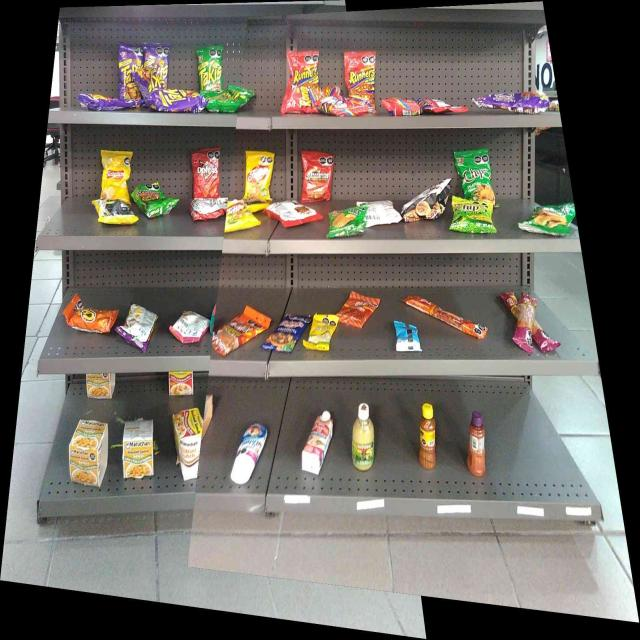bitzAlmendras: (394, 318, 421, 354)
bitzEnchilado90: (432, 303, 488, 341), (340, 288, 374, 327)
bitzHabanero: (518, 288, 536, 355)
bokadosCacahuates: (272, 319, 300, 353)
botaneraChilito: (419, 401, 437, 470)
cheetosOriginal: (63, 295, 114, 333)
chipsFuego: (475, 92, 549, 113)
chipsJalapeno: (455, 147, 494, 198), (526, 200, 575, 238)
chipsPapatinas: (454, 200, 494, 232)
delPrimoSalsa: (352, 400, 376, 471)
doritosNacho: (191, 151, 219, 197)
fritosLimon: (246, 149, 274, 201), (228, 203, 246, 230)
leoMix: (216, 319, 256, 348)
maruchanPollo: (70, 422, 106, 488), (124, 422, 153, 478)
maruchanRes: (173, 410, 201, 474)
nestleCarnation: (305, 413, 330, 474)
nestleLechera: (236, 424, 261, 482)
popKarameladas: (407, 185, 447, 220)
productoAtras: (120, 307, 153, 347), (176, 310, 205, 344), (98, 202, 136, 226), (368, 201, 400, 224), (80, 92, 116, 111), (276, 200, 301, 227), (189, 201, 224, 220), (383, 98, 419, 116), (425, 99, 466, 113)
rancheritos: (304, 150, 330, 202)
rufflesQueso: (329, 209, 365, 236)
runners: (345, 52, 374, 103), (288, 52, 320, 82), (284, 85, 316, 113)
sabritasOriginal: (102, 150, 129, 198)
semillasCalabaza: (312, 312, 332, 350)
tajinDulce: (467, 410, 488, 477)
takisFuego: (150, 91, 202, 112), (118, 45, 133, 100), (136, 68, 159, 88)
takisOriginal: (196, 48, 222, 90)
tostitos: (139, 185, 173, 216)
